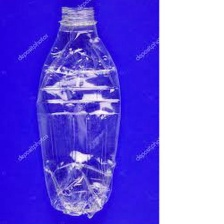bottle: (30, 1, 124, 218)
